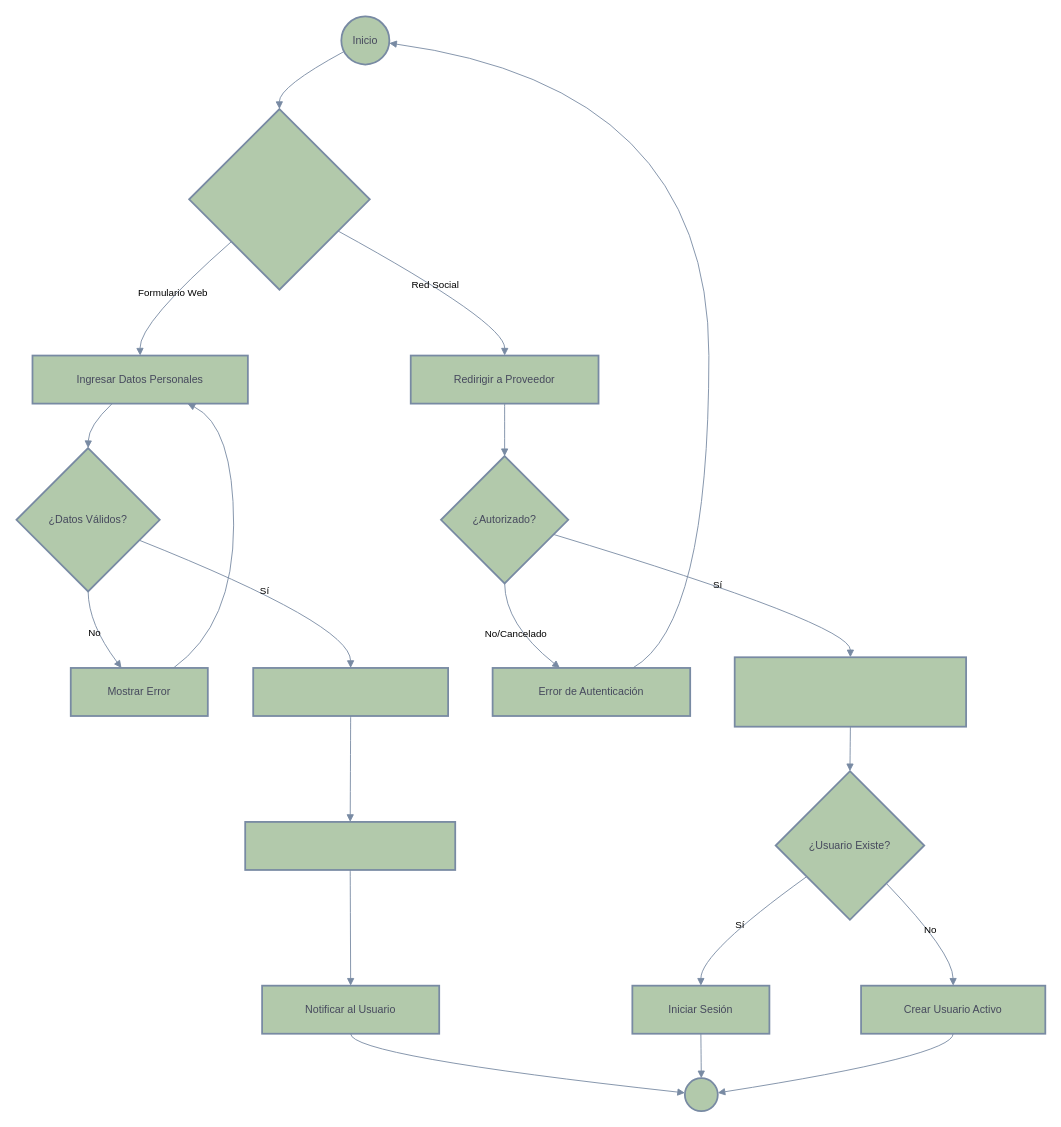
This 1061x1127 diagram has some shape labels left out. The centre of each missing label's shape, as x and y in pixels:
Crear Usuario Inactivo: [350,691]
Enviar Correo Activación: [350,845]
Fin: [701,1094]
Obtener Datos del Proveedor: [850,691]
¿Método de Registro?: [279,199]
